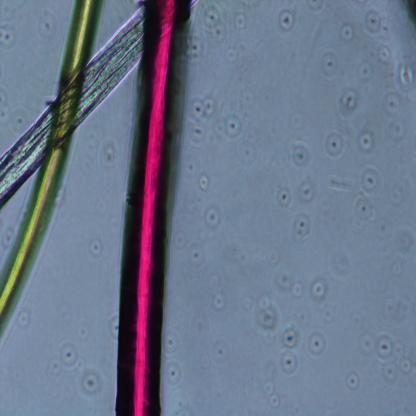Background material: (359, 328, 412, 381), (190, 97, 222, 146), (379, 90, 407, 143), (356, 164, 380, 224), (387, 228, 416, 276), (162, 328, 183, 391), (83, 135, 114, 177), (277, 324, 300, 374), (379, 295, 412, 329), (48, 340, 79, 376), (202, 328, 226, 374), (256, 296, 282, 338), (33, 7, 61, 42), (0, 99, 29, 132), (202, 6, 227, 43), (205, 272, 227, 312), (292, 211, 315, 249), (314, 46, 343, 76), (336, 239, 358, 278), (278, 271, 306, 299), (374, 208, 397, 240), (366, 10, 393, 36), (79, 370, 106, 395), (336, 87, 359, 116), (323, 131, 345, 161), (306, 330, 329, 358), (394, 63, 416, 92), (290, 141, 312, 169), (308, 273, 328, 303), (203, 204, 223, 231), (228, 38, 247, 66), (296, 177, 315, 205), (357, 130, 377, 155), (0, 22, 19, 48), (13, 304, 32, 329), (279, 9, 298, 33), (264, 380, 280, 408), (339, 21, 356, 46), (191, 240, 205, 270), (276, 186, 294, 209), (344, 369, 361, 392), (0, 227, 16, 251), (226, 12, 245, 32), (358, 56, 373, 81), (224, 116, 241, 138), (193, 172, 209, 192), (376, 44, 392, 64), (89, 237, 103, 258)
Microfibre: (0, 1, 103, 337), (113, 0, 196, 416), (0, 10, 143, 206)
